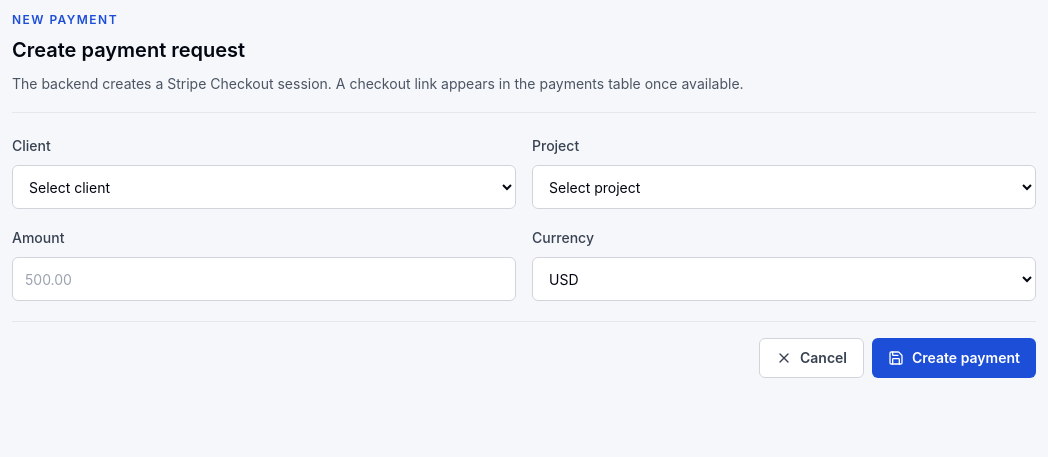
Test: PaymentForm › validates required fields with current messages
Submit the form "Create payment"
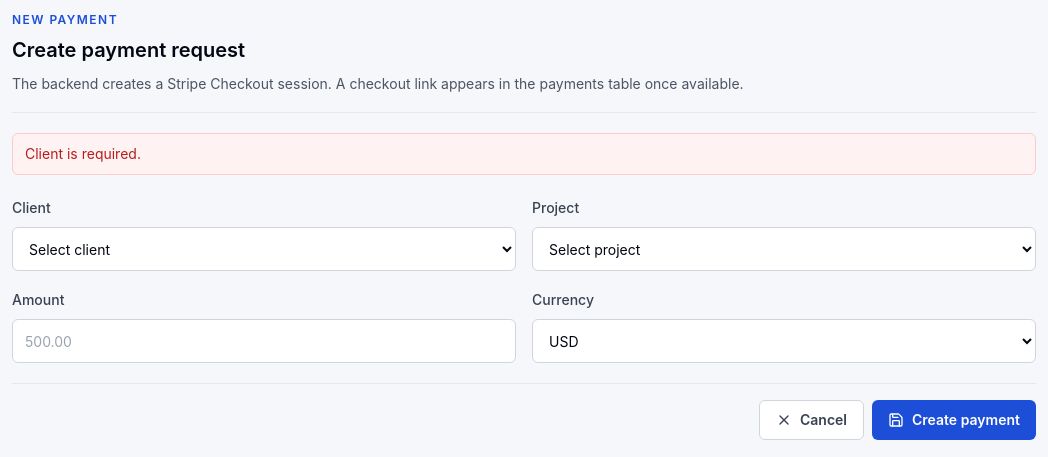
Expected: the text "Client is required." is shown, [12, 133, 1036, 175]
Select "client_one #100" in the dropdown labelled "Client" at (264, 249), box [12, 227, 516, 271]
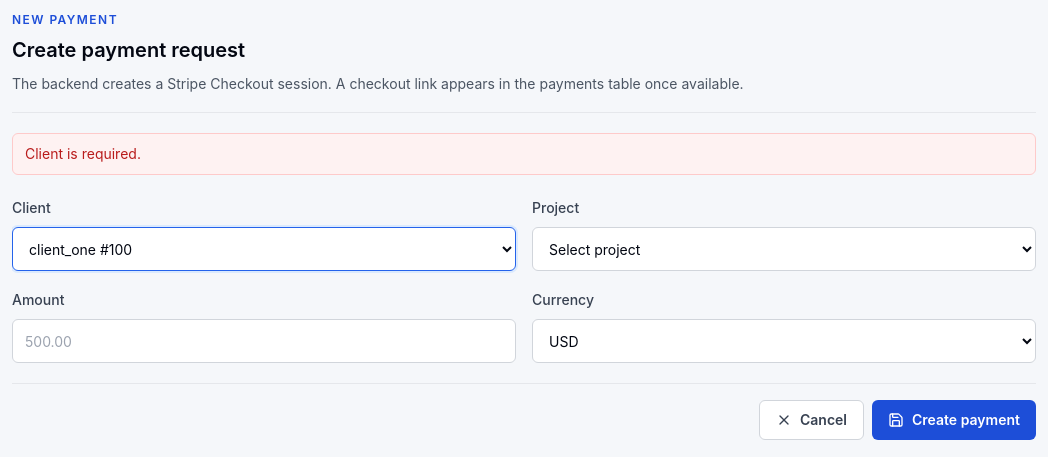
Submit the form "Create payment"
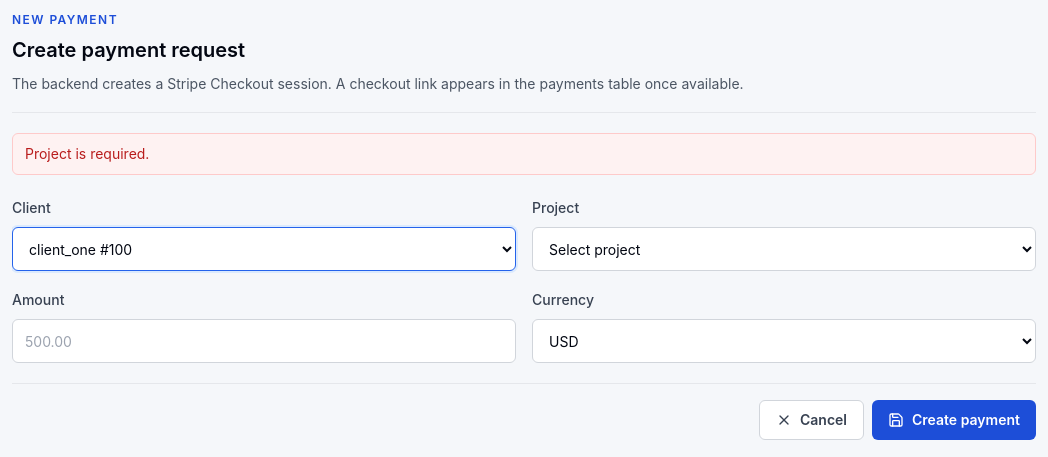
Expected: the text "Project is required." is shown, [12, 133, 1036, 175]
Select "Lakeview Renovation #10" in the dropdown labelled "Project" at (784, 249), box [532, 227, 1036, 271]
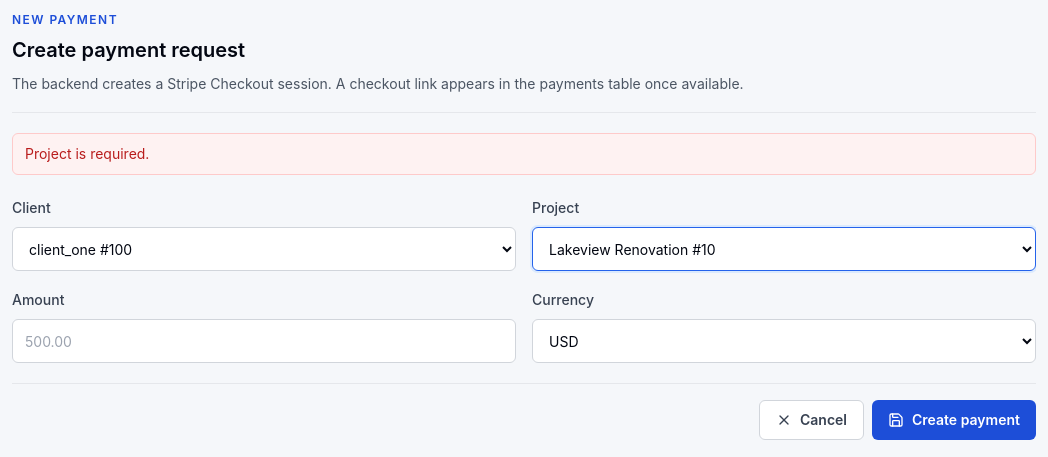
Submit the form "Create payment"
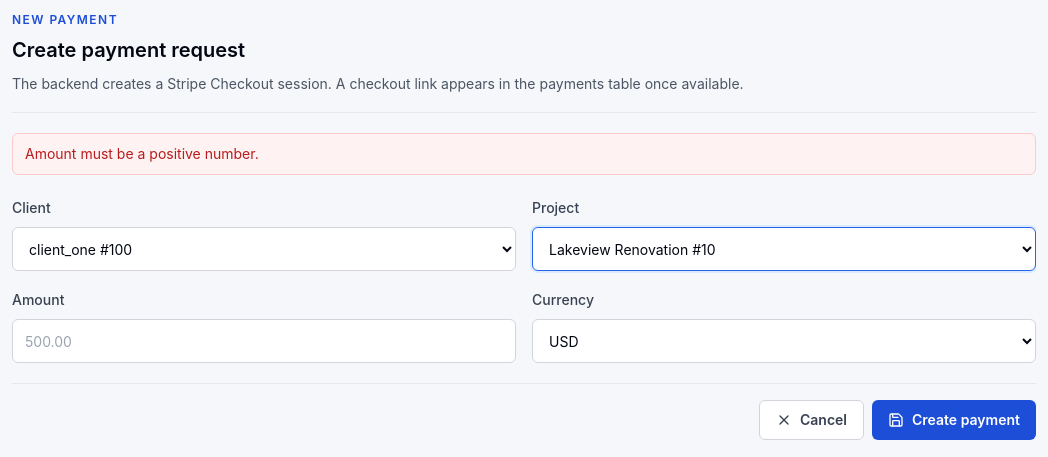
Expected: the text "Amount must be a positive number." is shown, [12, 133, 1036, 175]
